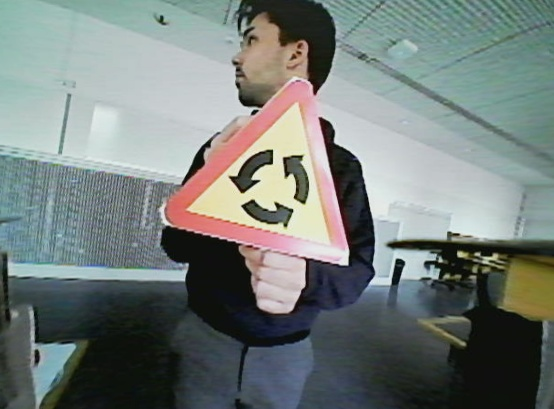roundabout_warning: (156, 64, 360, 278)
